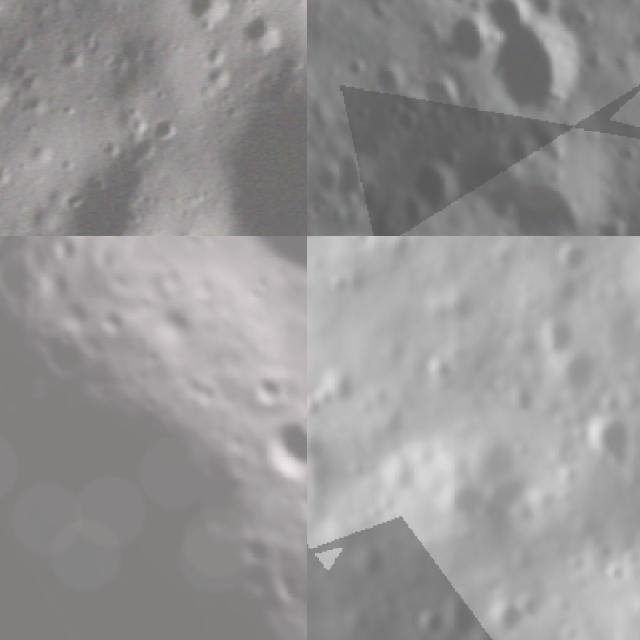crater: (0, 86, 159, 236), (216, 83, 307, 236), (489, 20, 587, 129), (447, 138, 541, 231), (23, 313, 103, 391), (249, 399, 307, 495), (514, 173, 595, 236), (414, 144, 465, 218), (240, 360, 300, 420), (583, 412, 634, 472), (443, 14, 496, 71), (330, 148, 381, 200), (91, 298, 138, 349), (523, 122, 574, 168), (233, 6, 282, 52), (420, 70, 464, 121), (57, 288, 104, 335), (558, 351, 608, 395), (478, 0, 535, 37), (535, 316, 577, 358), (553, 241, 594, 284), (370, 57, 414, 97), (409, 604, 447, 640), (389, 100, 424, 137), (182, 0, 233, 25), (152, 104, 183, 143), (341, 50, 372, 81), (524, 0, 564, 24), (310, 196, 332, 229), (623, 26, 640, 63), (442, 0, 482, 10), (634, 168, 640, 197)
